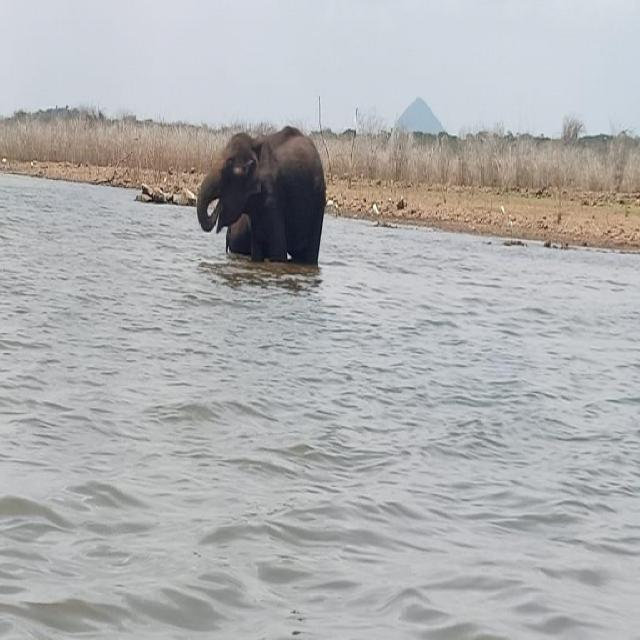Elephant: (196, 124, 324, 264)
